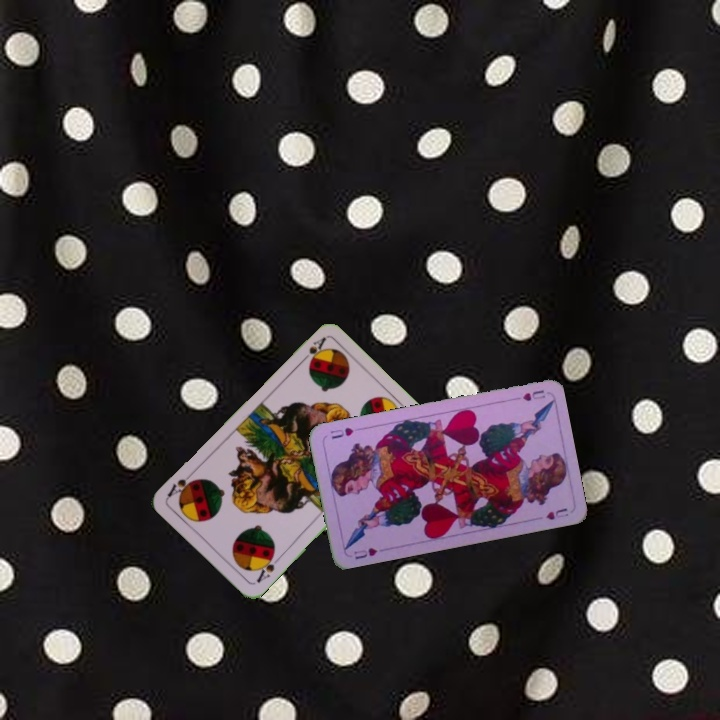HU: (508, 386, 548, 404), (350, 543, 380, 562)
SA: (296, 334, 328, 366), (252, 549, 278, 585)
